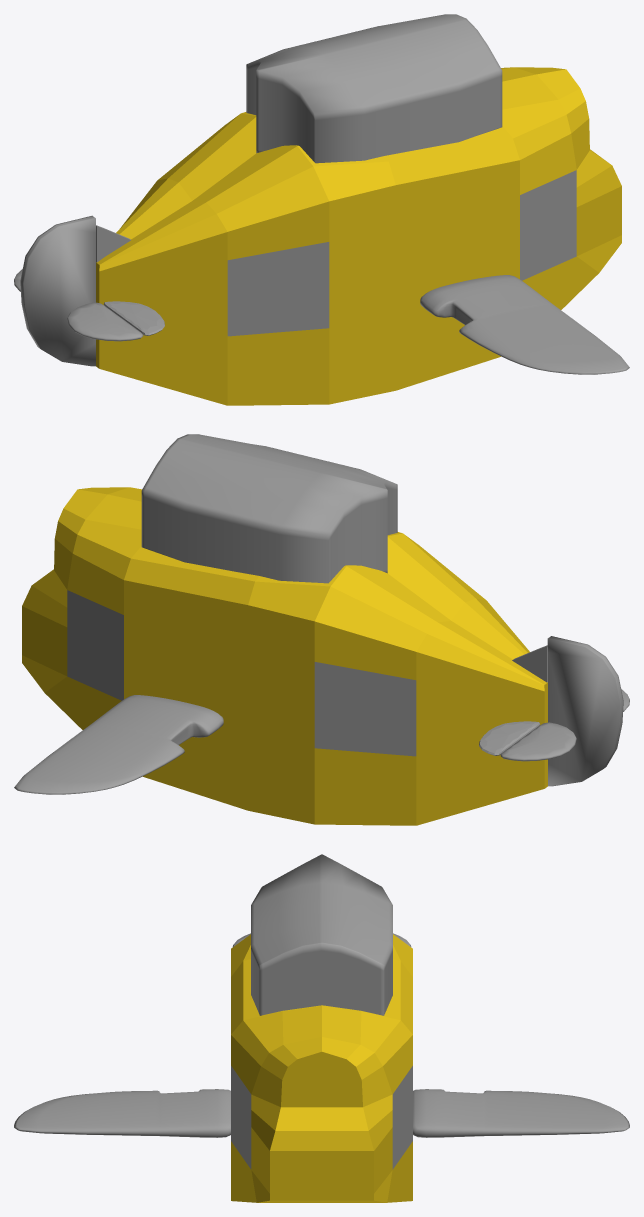
Rendered from FlightSimulator.glb.
The picture shows the model from 3 angles, top to bottom: view 1: azimuth 30°, elevation 25°; view 2: azimuth 150°, elevation 25°; view 3: azimuth 270°, elevation 25°; orthographic projection. The views are drawn at different scales.
Parts seen in each view (by area): view 1: FlightSimulator_body, FlightSimulator_Top, FlightSimulator_Wings, FlightSimulator_Tail, FlightSimulator_RearWing_Back, FlightSimulator_RearWing_Front, FlightSimulator_TailConnector; view 2: FlightSimulator_body, FlightSimulator_Top, FlightSimulator_Wings, FlightSimulator_Tail, FlightSimulator_RearWing_Back, FlightSimulator_RearWing_Front, FlightSimulator_TailConnector; view 3: FlightSimulator_body, FlightSimulator_Top, FlightSimulator_Wings.
Boxes of the visible parts, x1,y1,x2,y2 form: FlightSimulator_body: [96, 67, 621, 405]; FlightSimulator_Top: [246, 14, 502, 163]; FlightSimulator_Wings: [420, 275, 629, 374]; FlightSimulator_Tail: [20, 215, 95, 366]; FlightSimulator_RearWing_Back: [14, 269, 143, 341]; FlightSimulator_RearWing_Front: [103, 301, 164, 335]; FlightSimulator_TailConnector: [96, 225, 130, 262]; FlightSimulator_body: [22, 487, 547, 825]; FlightSimulator_Top: [141, 434, 397, 583]; FlightSimulator_Wings: [14, 695, 223, 794]; FlightSimulator_Tail: [547, 636, 623, 786]; FlightSimulator_RearWing_Back: [500, 689, 629, 761]; FlightSimulator_RearWing_Front: [479, 721, 540, 755]; FlightSimulator_TailConnector: [512, 645, 547, 682]; FlightSimulator_body: [231, 934, 412, 1202]; FlightSimulator_Top: [251, 854, 392, 1015]; FlightSimulator_Wings: [14, 1089, 629, 1137].
Size of the model in its own units: 1.42 by 0.7226 by 1.52.
